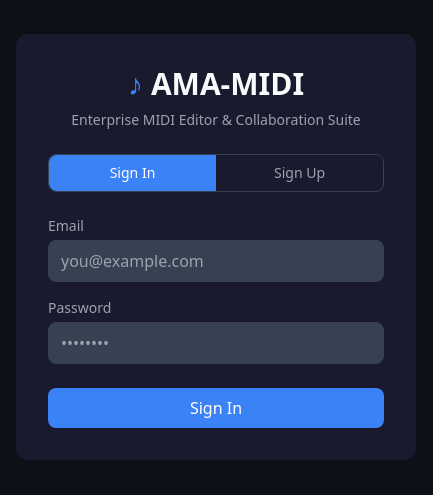
Test case: AuthPage › displays generic error for non-ApiHttpError
Type "a@b.com" into the field labelled "Email".
click(216, 261); type("a@b.com")  # box [48,240,384,282]
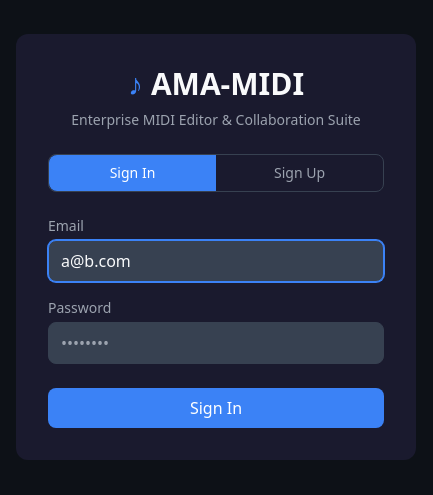
Type "x" into the password field labelled "Password".
click(216, 343); type("x")  # box [48,322,384,364]
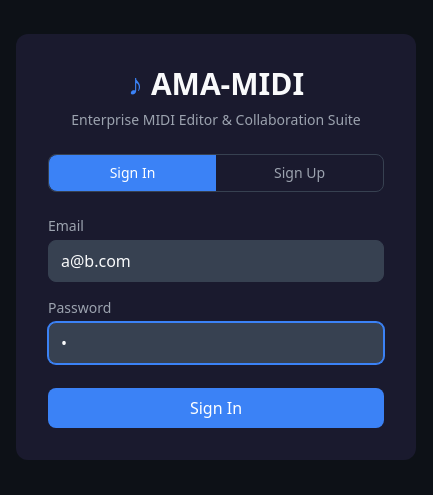
Click the button "Sign In" below "Password".
click(216, 408)  # box [48,388,384,428]
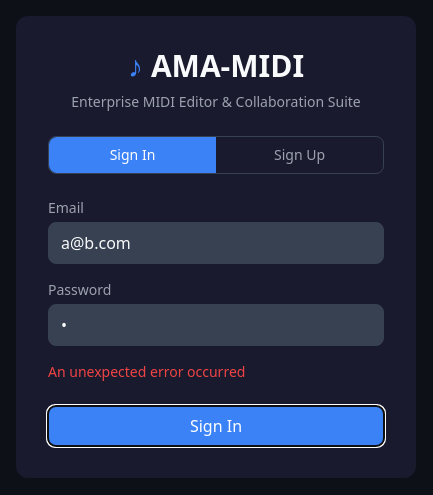
Check: the text "An unexpected error occurred" is shown, box [48,362,245,381]
